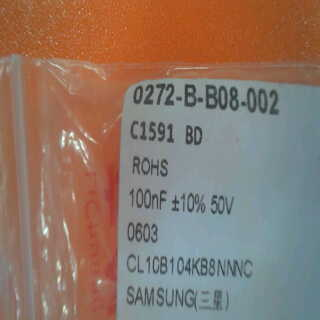100nF: (127, 185, 171, 212)
